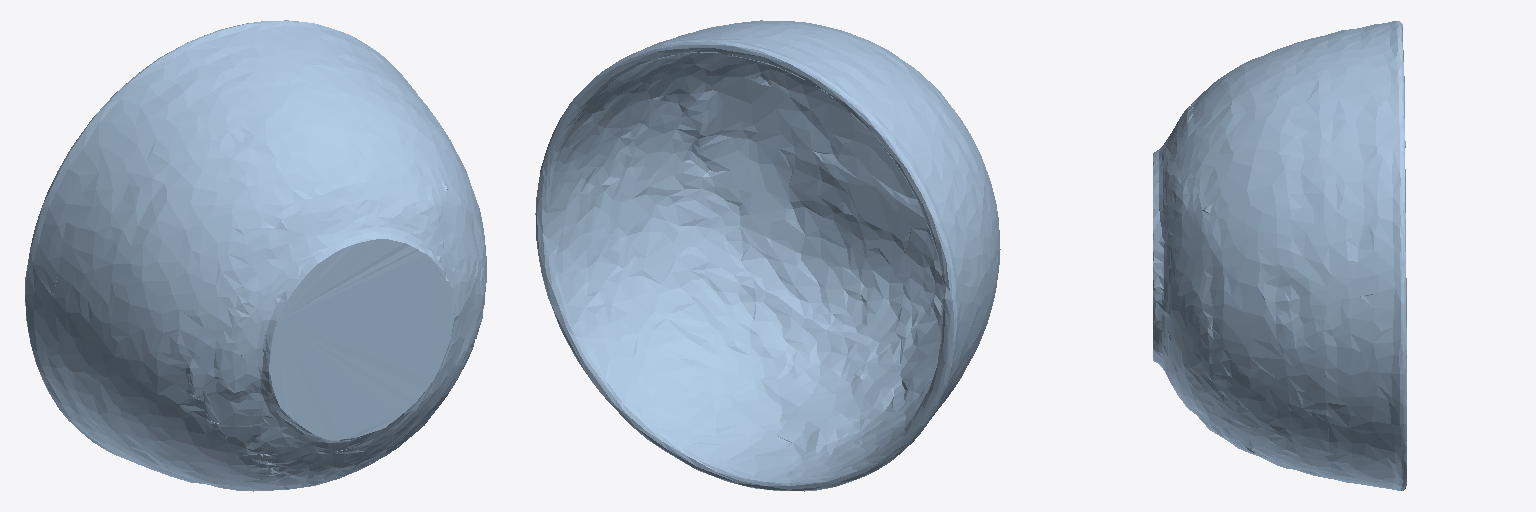
robot.urdf — Bowl.urdf:
<?xml version="1.0" ?>
<robot name="Bowl.urdf">
  <dynamics damping="0.5" friction="0.9"/>
  <link name="baseLink">
    <contact>
      <lateral_friction value="0.9"/>
      <rolling_friction value="0.5"/>
      <stiffness value="30000"/>
      <damping value="1000"/>
    </contact>
    <visual>
      <origin rpy="0 0 0" xyz="0 0 0"/>
      <geometry>
        <mesh filename="objects/Bowl/Bowl.obj" scale="1.0 1.0 1.0"/>
      </geometry>
      <material name="mat">
        <color rgba="0.7 0.8 0.9 1"/>
      </material>
    </visual>
    <collision>
      <origin rpy="0 0 0" xyz="0 0 0"/>
      <geometry>
        <mesh filename="objects/Bowl/Bowl.obj" scale="1.0 1.0 1.0"/>
      </geometry>
    </collision>
  </link>
</robot>

--- What the picture shows (computed from the rendered views, not written in the file) ---
The picture shows the robot from 3 angles, left to right: view 1: azimuth 30°, elevation 25°; view 2: azimuth 150°, elevation 25°; view 3: azimuth 270°, elevation 25°; orthographic projection.
Robot: Bowl.urdf — 1 links, 0 joints (none); root link baseLink; default pose: all joints at 0.
Visible links, largest first — view 1: baseLink; view 2: baseLink; view 3: baseLink.
Link boxes in pixels (left/top/right/bottom): baseLink: left=25, top=20, right=486, bottom=491; baseLink: left=535, top=20, right=1000, bottom=491; baseLink: left=1153, top=21, right=1406, bottom=490.
Bounding box of the posed robot: 0.1501 × 0.0817 × 0.1505 m (x, y, z).
1 mesh visuals loaded from 1 distinct referenced files (1 OBJ).
